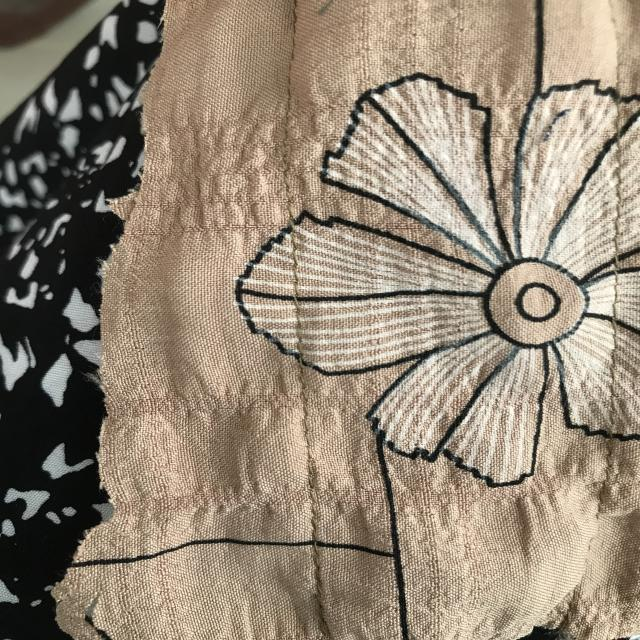good: (265, 34, 303, 158), (278, 243, 304, 288)
